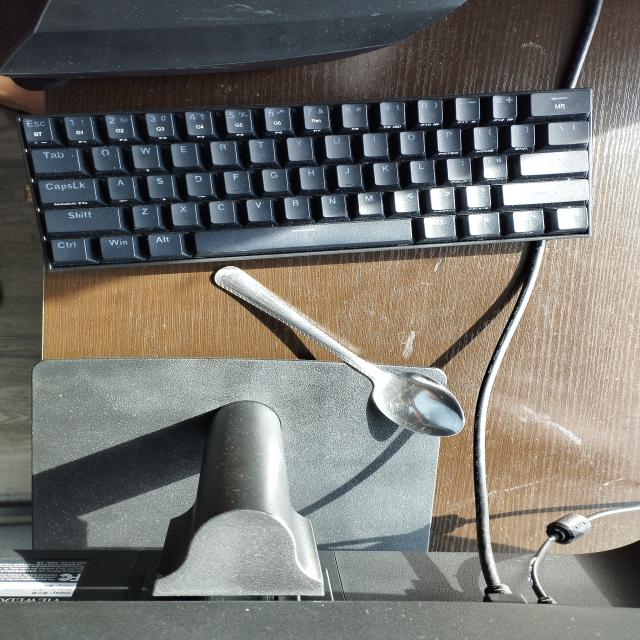Spoon: (200, 264, 488, 442)
